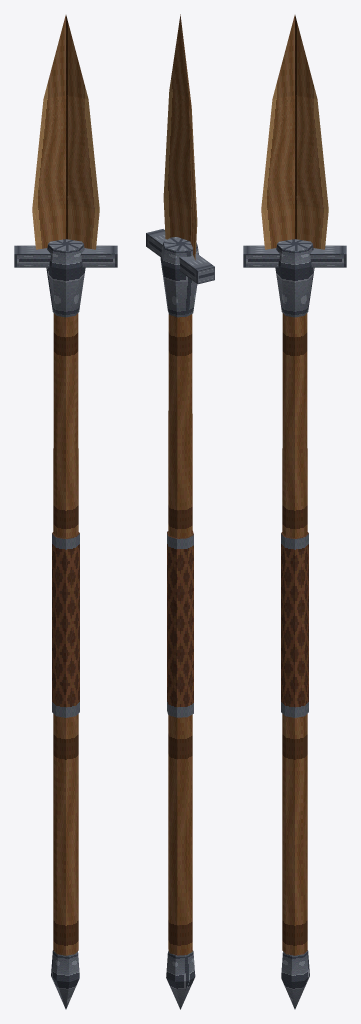
The model's file is lanca_de_madeira.glb.
3 renders of one model, left to right at view 1: azimuth 90°, elevation 25°; view 2: azimuth 210°, elevation 25°; view 3: azimuth 270°, elevation 25°, orthographic.
Parts seen in each view (by area): view 1: lanca_de_madeira; view 2: lanca_de_madeira; view 3: lanca_de_madeira.
Part boxes in pixels (x1=…): lanca_de_madeira: x1=14, y1=15, x2=117, y2=1009; lanca_de_madeira: x1=146, y1=14, x2=214, y2=1009; lanca_de_madeira: x1=243, y1=15, x2=346, y2=1009.
Size of the model in its own units: 0.088 by 2.34 by 0.22.
Materials: 1 (1 with a texture image).
